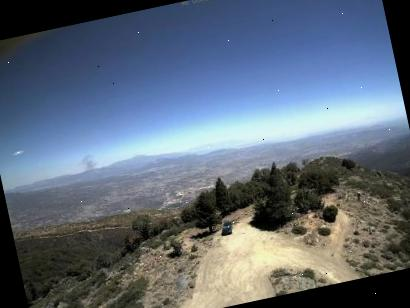smoke: (79, 149, 101, 172)
